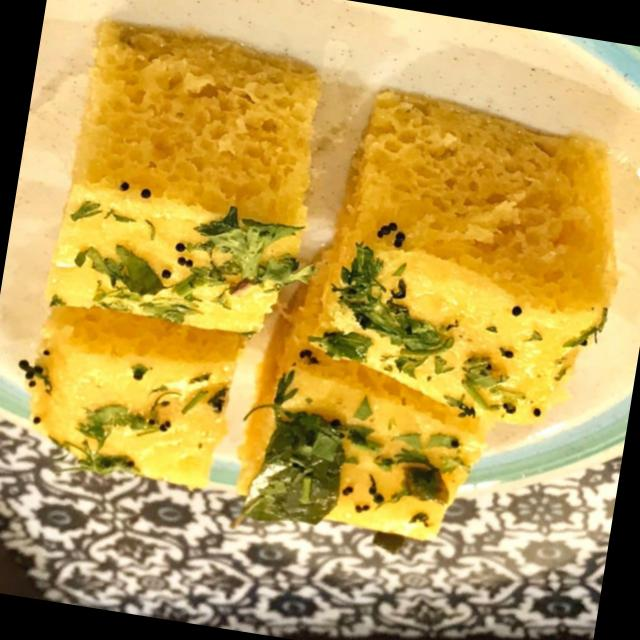dhokla: (10, 22, 599, 566)
